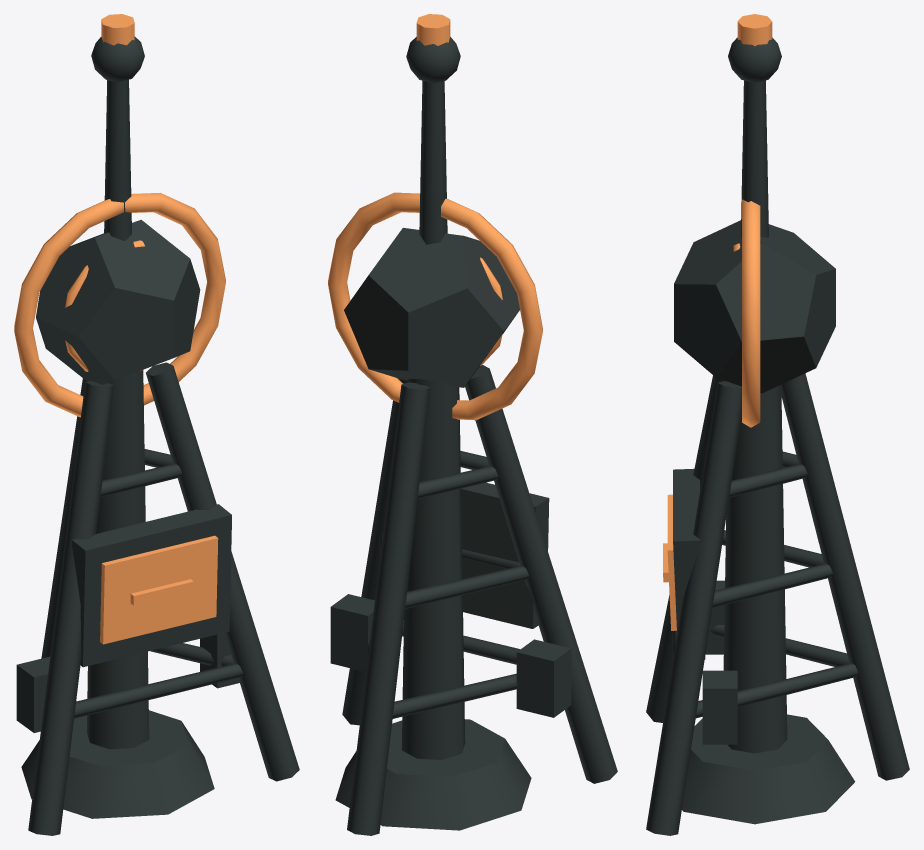
The model's file is landmark-signal-tower.v1.glb.
3 views of the same model, side by side, from view 1: azimuth 30°, elevation 25°; view 2: azimuth 150°, elevation 25°; view 3: azimuth 270°, elevation 25° (orthographic).
Parts seen in each view (by area): view 1: SignalTowerStructure, SignalTowerAccent; view 2: SignalTowerStructure, SignalTowerAccent; view 3: SignalTowerStructure, SignalTowerAccent.
Boxes of the visible parts, x1,y1,x2,y2 form: SignalTowerStructure: (16, 36, 299, 835); SignalTowerAccent: (14, 14, 225, 644); SignalTowerStructure: (330, 37, 617, 835); SignalTowerAccent: (328, 14, 542, 420); SignalTowerStructure: (646, 37, 909, 835); SignalTowerAccent: (663, 14, 772, 630).
Size of the model in its own units: 1.58 by 4.34 by 1.36.
